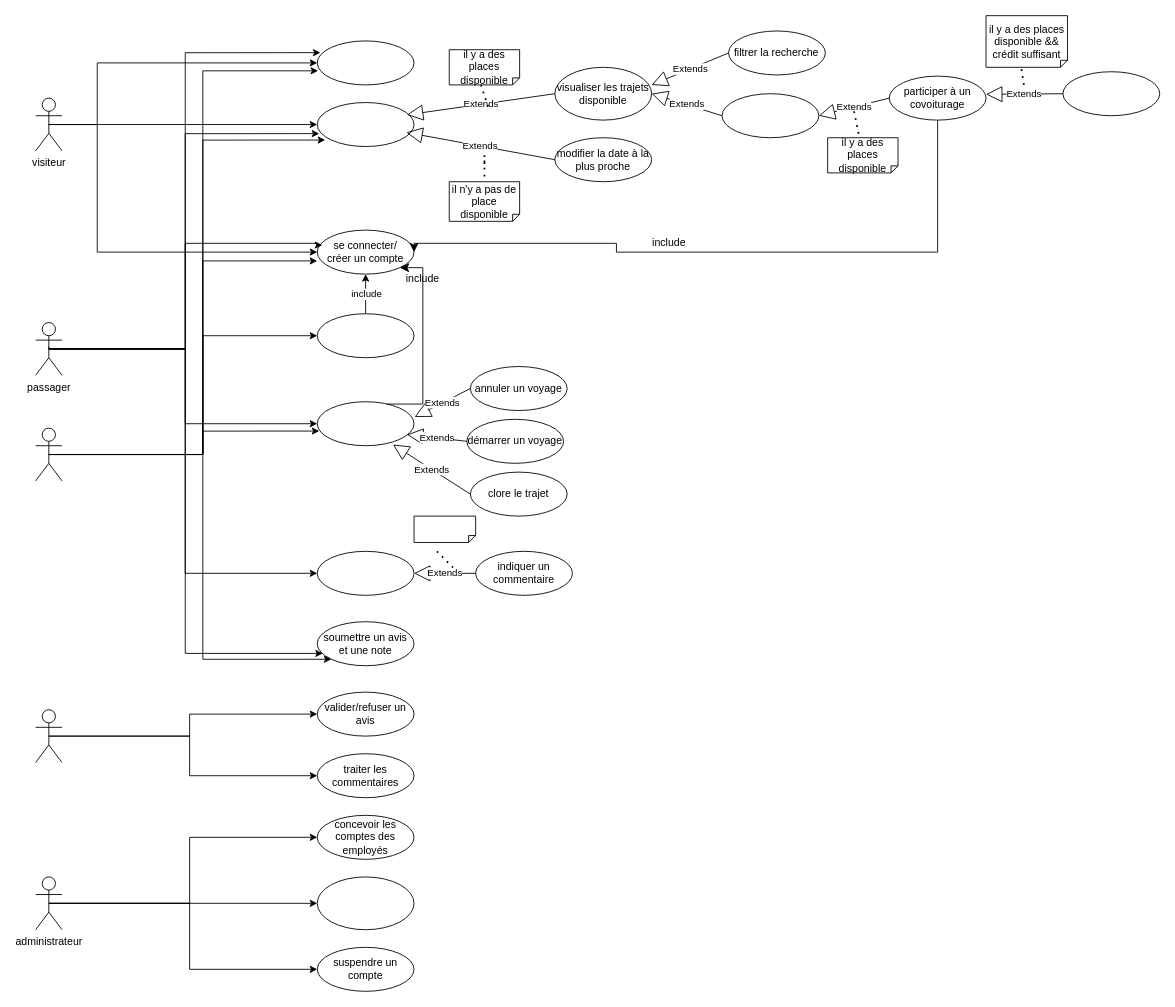
Image size: 1175x1007. Some labels were removed from this diagram. Here are the shapes that lost their labels. From the top down, the centre of each, then its label:
point 365,62: accéder à la page d'accueil
point 1111,93: valider la participation
point 365,124: rechercher de itinéraires
point 770,115: accéder aux détails d'un covoiturage
point 365,335: saisir un voyage
point 365,423: visionner l'historique des covoiturages
point 48,454: chauffeur
point 444,529: si ça s'est mal passé
point 365,572: valider que tout s'est bien passé
point 48,736: employé
point 365,903: visionner les graphiques et les statistiques de l'application
